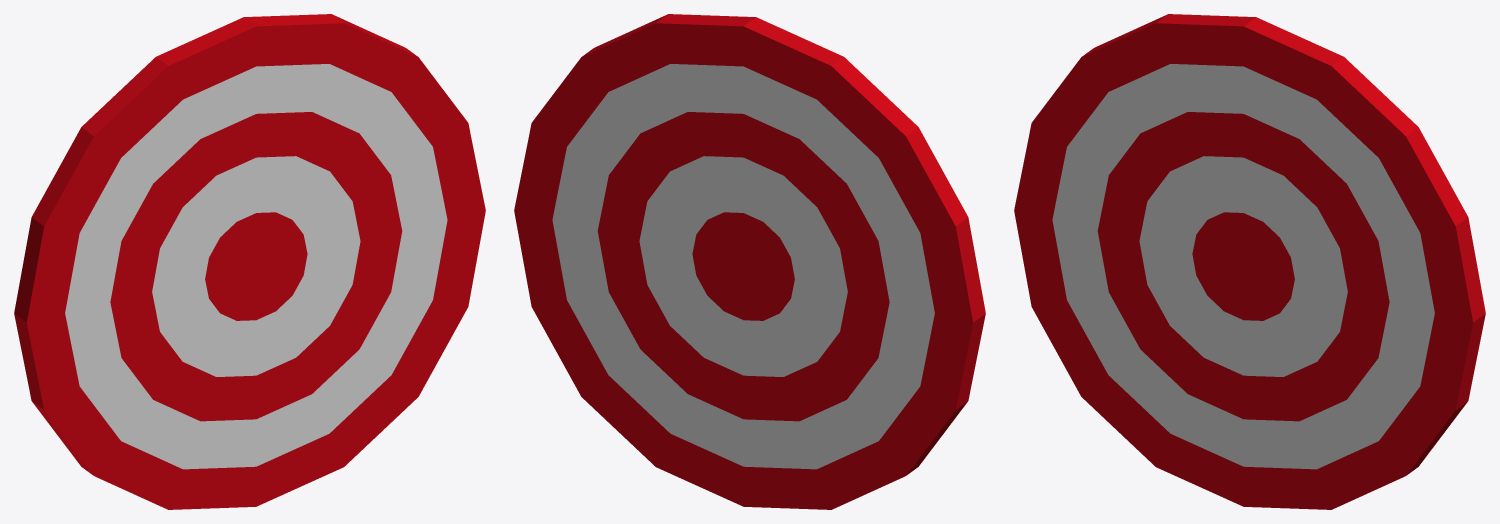
The model's file is TargetCollider.fbx.
3 renders of one model, left to right at view 1: azimuth 30°, elevation 25°; view 2: azimuth 150°, elevation 25°; view 3: azimuth 330°, elevation 25°, orthographic.
Visible parts, largest first — view 1: Collider.005, Collider.004, Collider.003, Collider.002, Collider.001; view 2: Collider.005, Collider.004, Collider.003, Collider.002, Collider.001; view 3: Collider.005, Collider.004, Collider.003, Collider.002, Collider.001.
Boxes of the visible parts, x1=… form: Collider.005: x1=14, y1=14, x2=485, y2=509; Collider.004: x1=65, y1=64, x2=447, y2=469; Collider.003: x1=110, y1=112, x2=402, y2=421; Collider.002: x1=152, y1=156, x2=360, y2=376; Collider.001: x1=205, y1=212, x2=307, y2=320; Collider.005: x1=514, y1=14, x2=985, y2=509; Collider.004: x1=552, y1=64, x2=934, y2=469; Collider.003: x1=597, y1=112, x2=889, y2=421; Collider.002: x1=639, y1=156, x2=847, y2=376; Collider.001: x1=692, y1=212, x2=794, y2=320; Collider.005: x1=1014, y1=14, x2=1485, y2=509; Collider.004: x1=1052, y1=64, x2=1434, y2=469; Collider.003: x1=1097, y1=112, x2=1389, y2=421; Collider.002: x1=1139, y1=156, x2=1347, y2=376; Collider.001: x1=1192, y1=212, x2=1294, y2=320.
Size of the model in its own units: 1912 by 1912 by 91.31.
